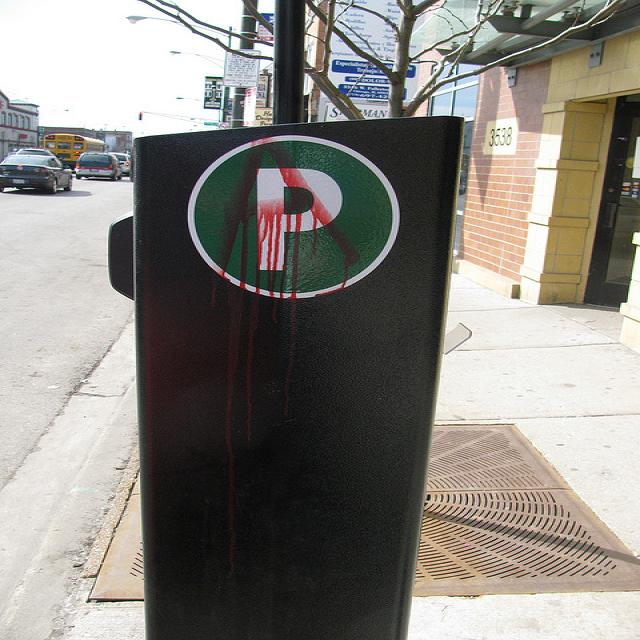Vehicle: (0, 154, 73, 193), (43, 132, 108, 172), (76, 152, 123, 181), (109, 153, 131, 176)
